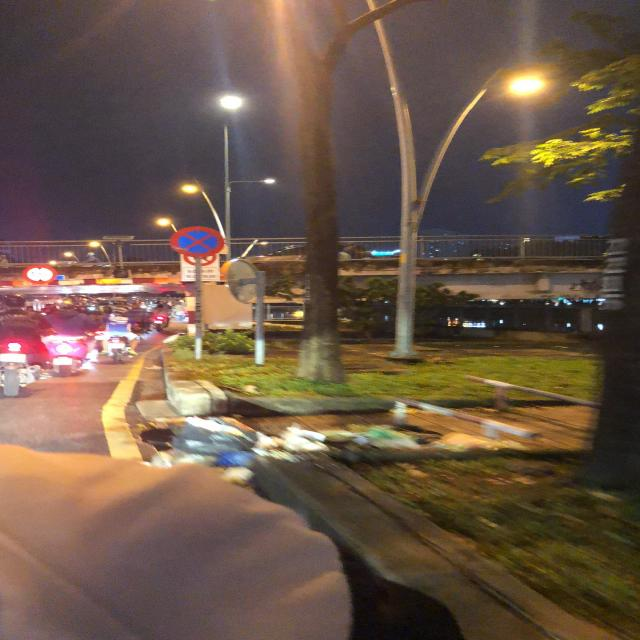Bien bao cam dung xe va do xe: (163, 221, 233, 259)
